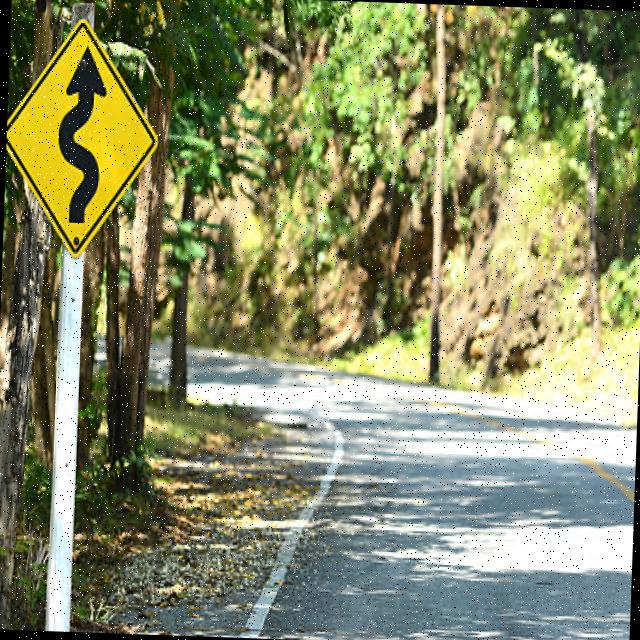left_sharp_curve: (2, 1, 164, 254)
